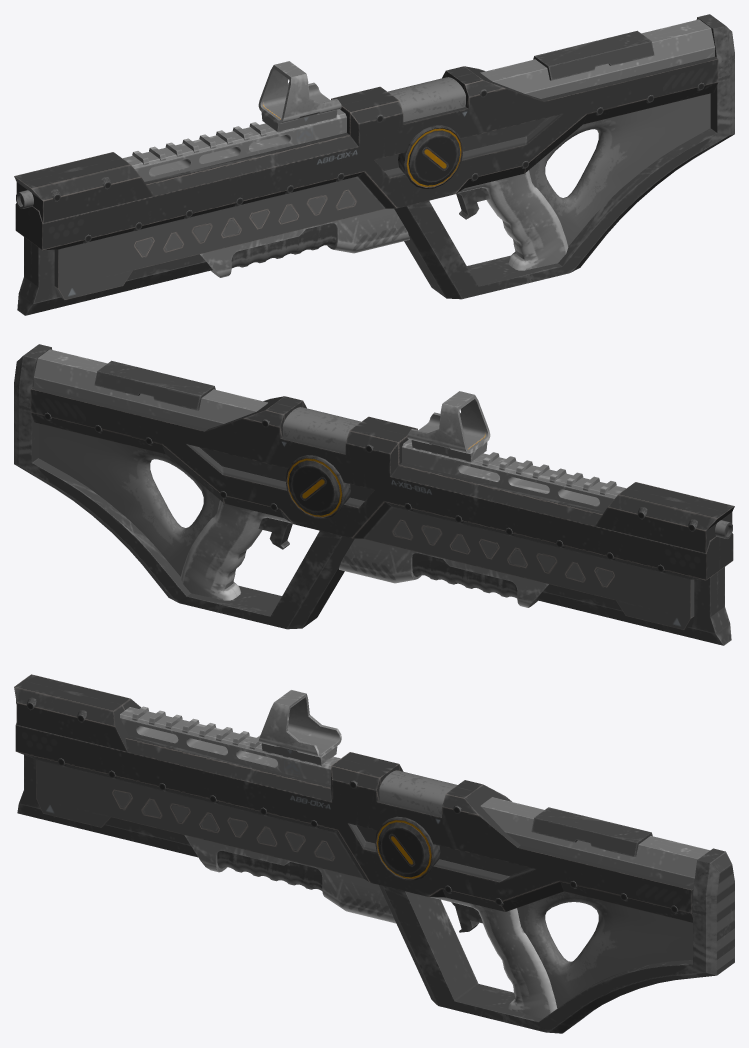
The model's file is Gun_Rifle.gltf.
3 renders of one model, top to bottom at view 1: azimuth 30°, elevation 25°; view 2: azimuth 150°, elevation 25°; view 3: azimuth 330°, elevation 25°, orthographic.
Visible parts, largest first — view 1: Gun_Rifle; view 2: Gun_Rifle; view 3: Gun_Rifle.
Part boxes in pixels (x1,y1,x2,y2): Gun_Rifle: (14,14,734,315); Gun_Rifle: (14,344,734,645); Gun_Rifle: (14,674,734,1033).
Size of the model in its own units: 1.06 by 0.3739 by 0.087.
Materials: 1 (1 with a texture image).
